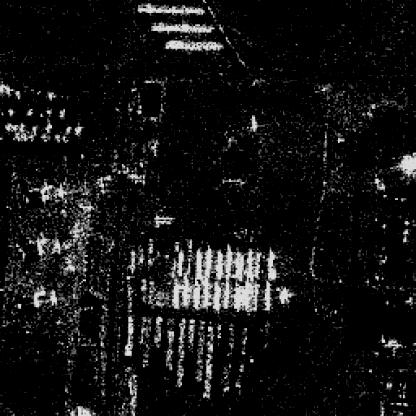airplane: (44, 122, 52, 130), (54, 132, 62, 140), (73, 124, 81, 132), (20, 132, 26, 142), (40, 133, 48, 140), (63, 124, 70, 132), (26, 107, 32, 116), (27, 132, 32, 142), (29, 125, 36, 132), (57, 109, 63, 117), (12, 124, 20, 130), (13, 132, 19, 140), (62, 134, 68, 142), (7, 107, 13, 114), (18, 122, 23, 130), (5, 124, 11, 130)
